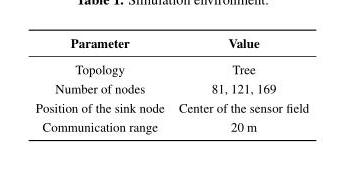table: (34, 34, 308, 134)
table column: (170, 34, 308, 134), (34, 34, 170, 134)
table column header: (34, 34, 308, 56)
table row: (34, 34, 308, 56), (34, 56, 308, 78), (34, 97, 308, 117), (34, 78, 308, 97), (34, 117, 308, 134)
